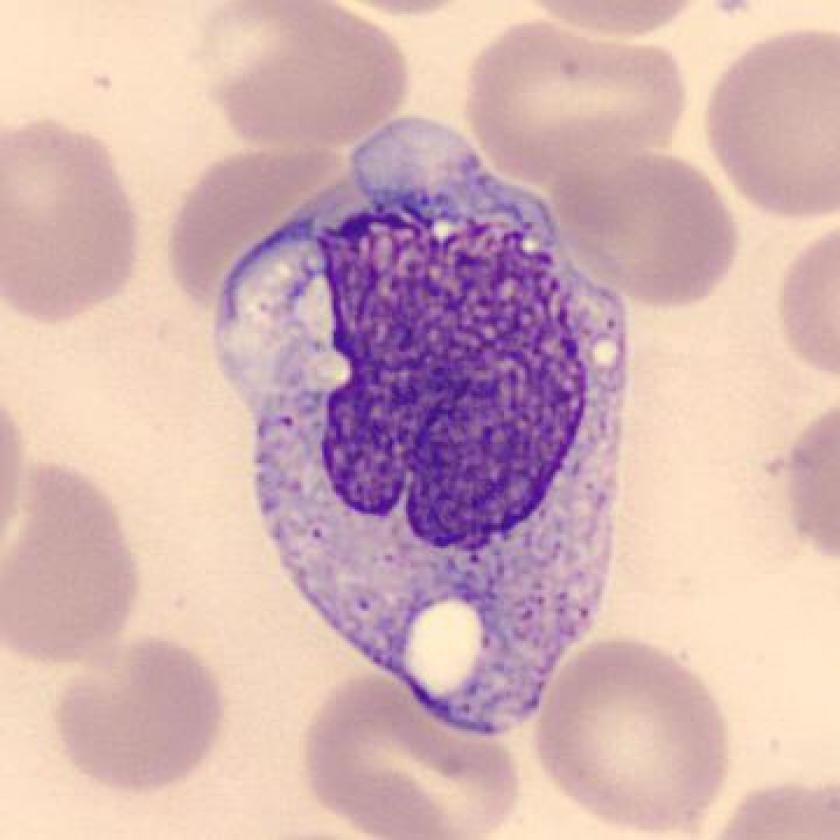monocyte: (190, 96, 645, 755)
